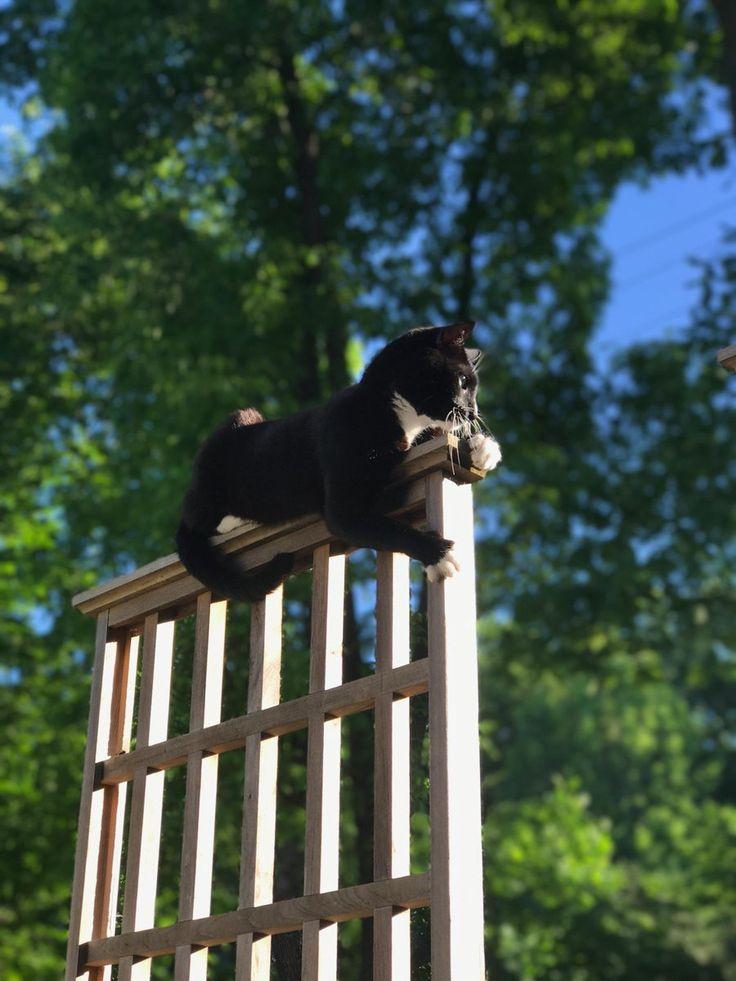kedo: (175, 322, 502, 595)
